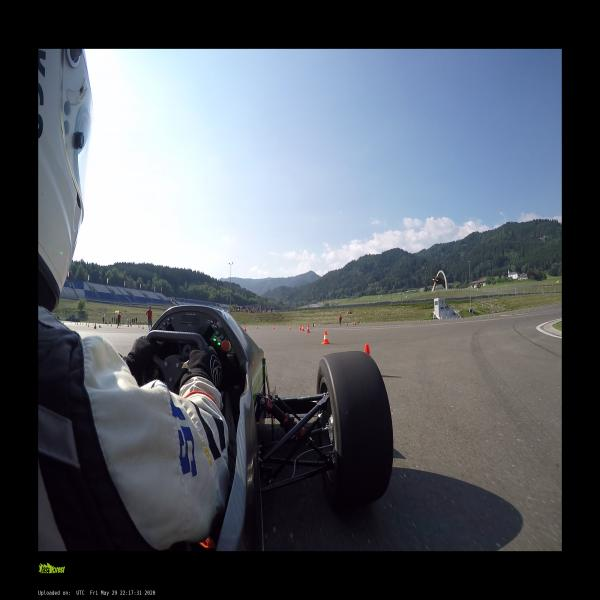orange_cone: (321, 330, 330, 344), (364, 344, 370, 356), (306, 324, 310, 332), (300, 325, 304, 331), (298, 324, 302, 330), (244, 326, 247, 331), (288, 325, 291, 330), (256, 325, 258, 329), (354, 322, 356, 326), (273, 325, 274, 329), (117, 325, 118, 328)
